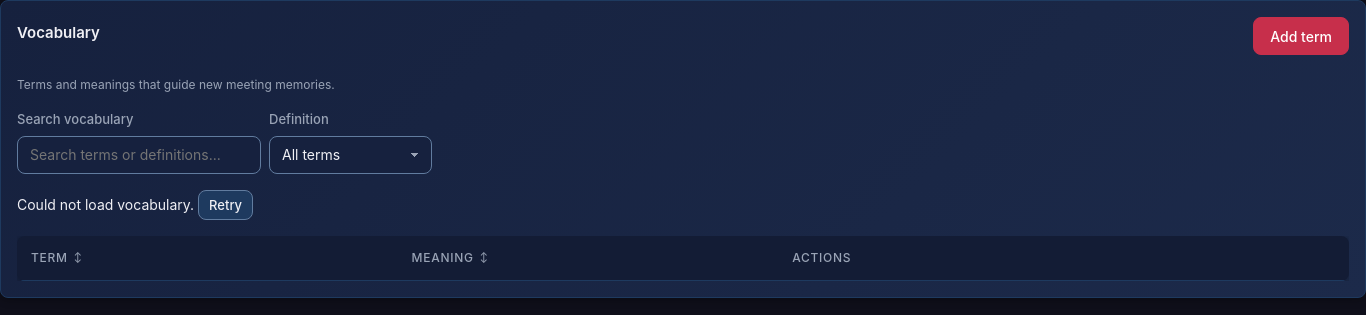
Test case: MeetingVocabulary › keeps search, definition filter and sort available with no terms and during errors
Check: the field labelled "Search vocabulary" is shown, box [17, 136, 261, 174]
Check: the dropdown labelled "Definition" shows "All terms", box [269, 136, 432, 174]
Click the button "Retry": (226, 205) [198, 190, 253, 220]
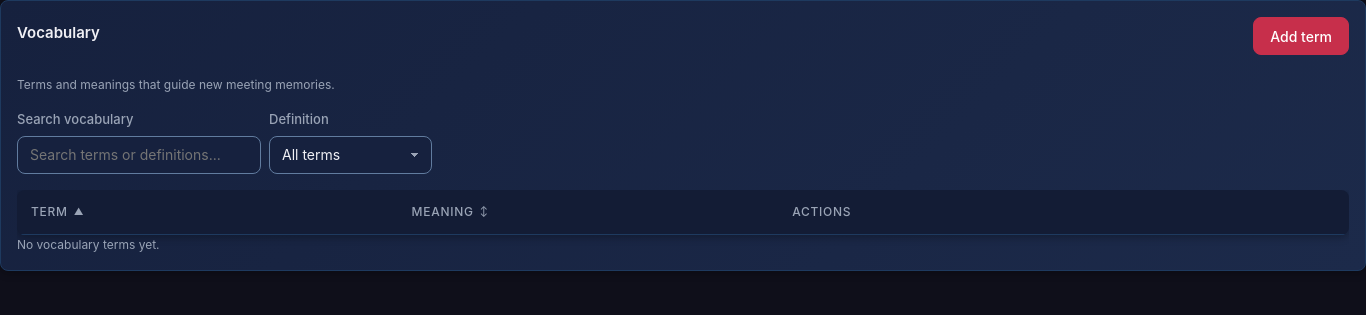
Check: the dropdown labelled "Definition" is shown, box [269, 136, 432, 174]
Check: the text "No vocabulary terms yet." is shown, box [17, 237, 160, 252]
